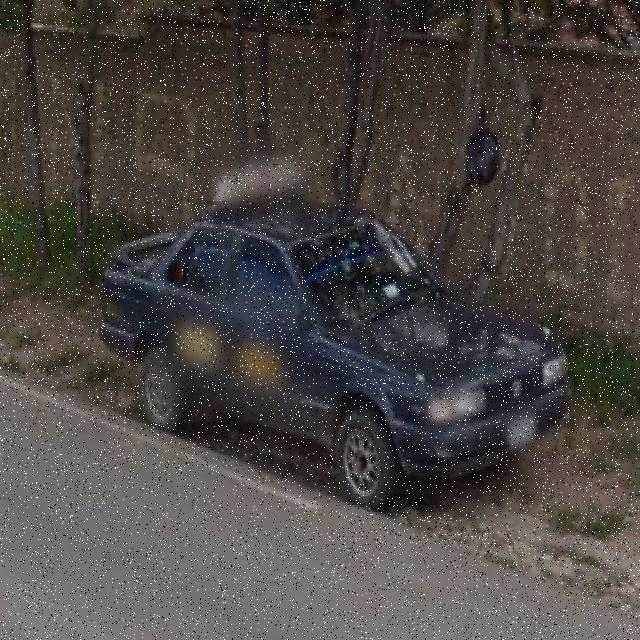cars: (102, 175, 580, 488)
